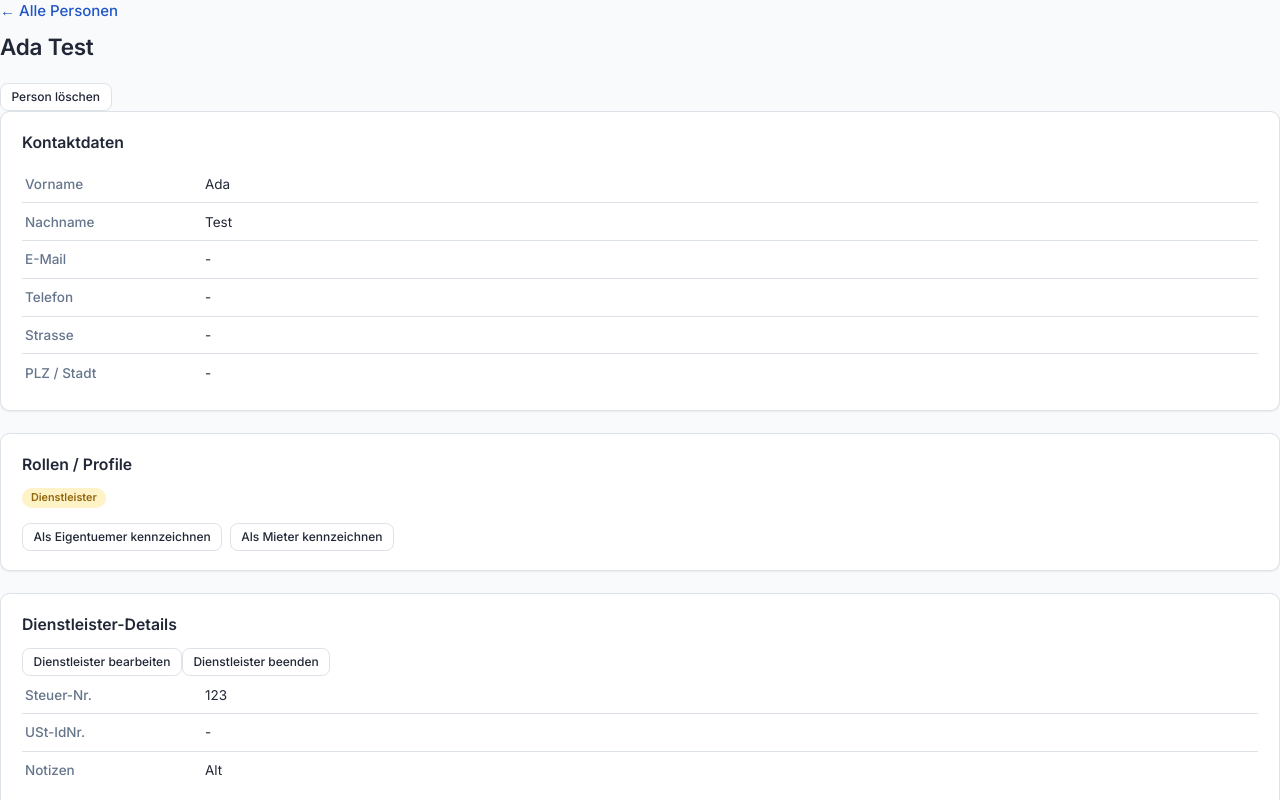
it: vendor edits the profile, not its linked person, and confirms ending
Click the button "Dienstleister bearbeiten": x=102, y=662 [22,648,182,676]
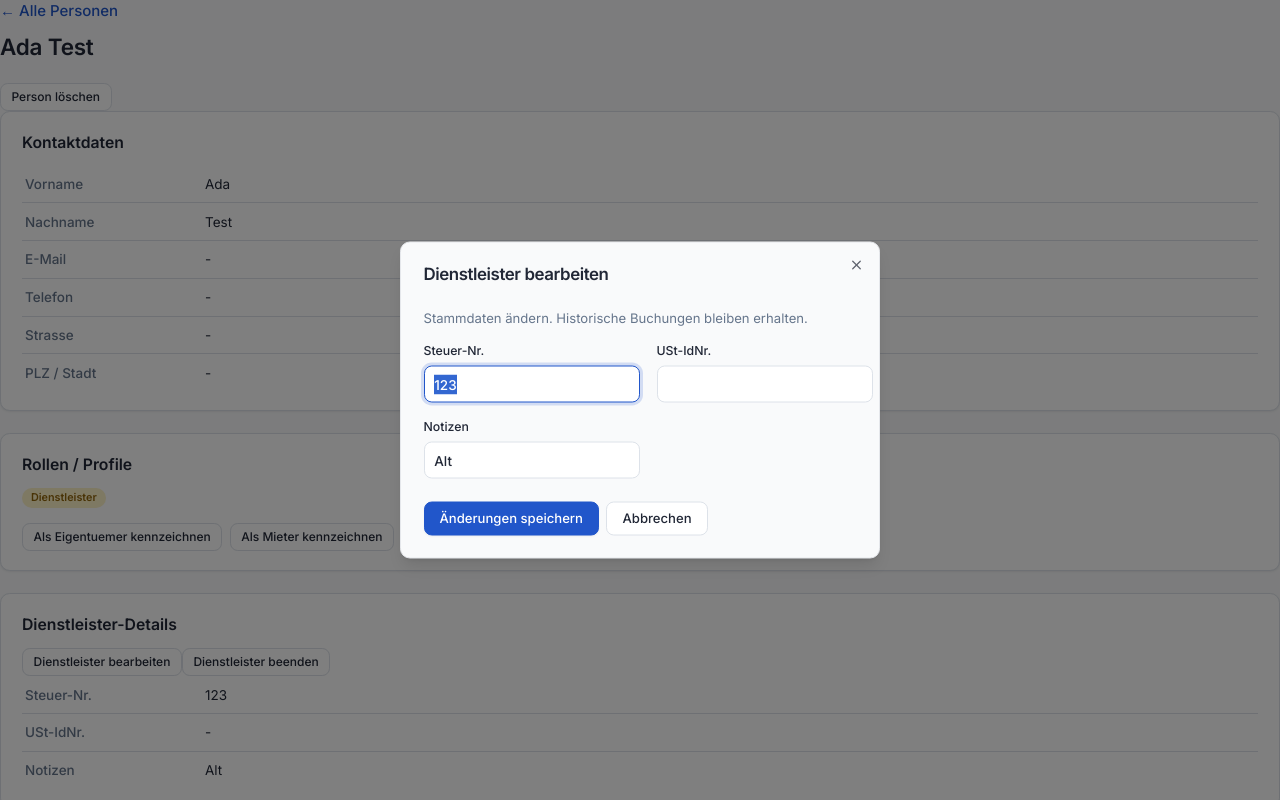
Replace the text in the field labelled "Steuer-Nr." with "456": x=532, y=384 [424,366,640,403]
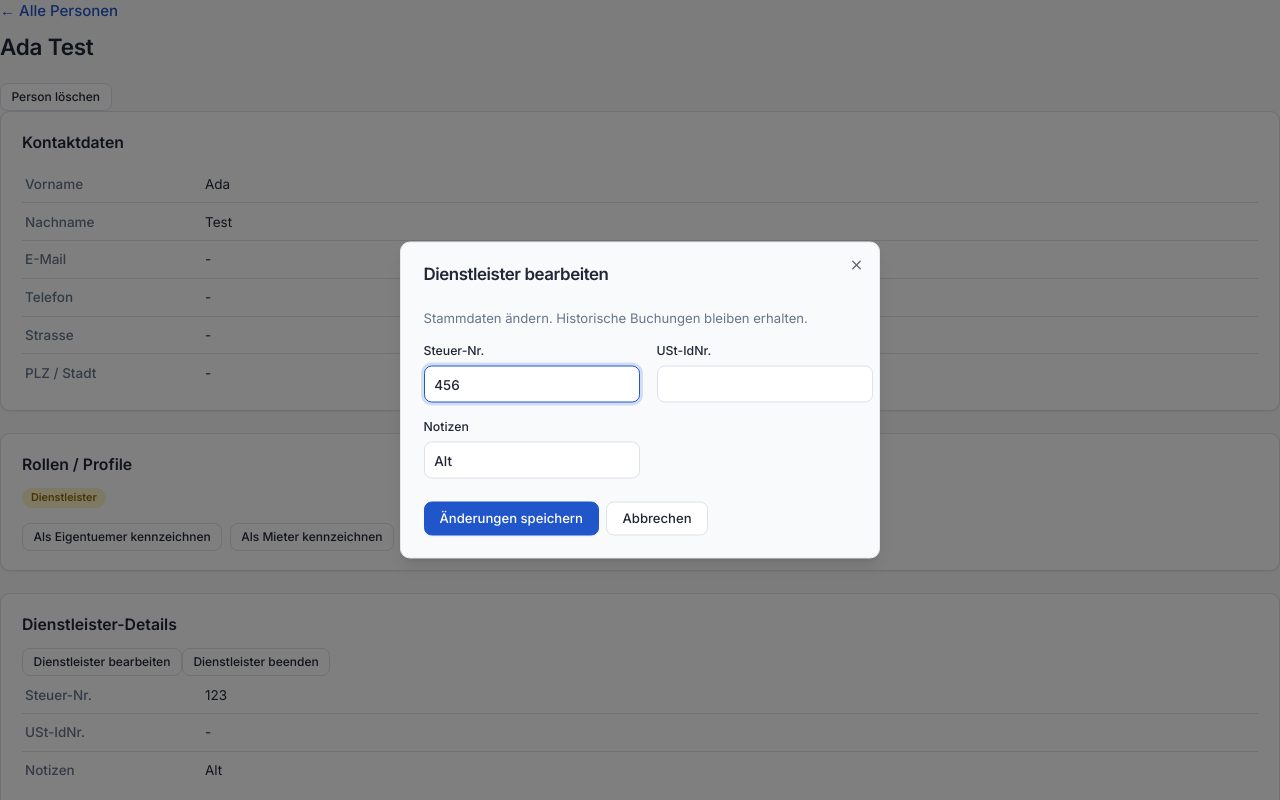
Replace the text in the field labelled "Notizen" with "Neu": x=532, y=460 [424,442,640,479]
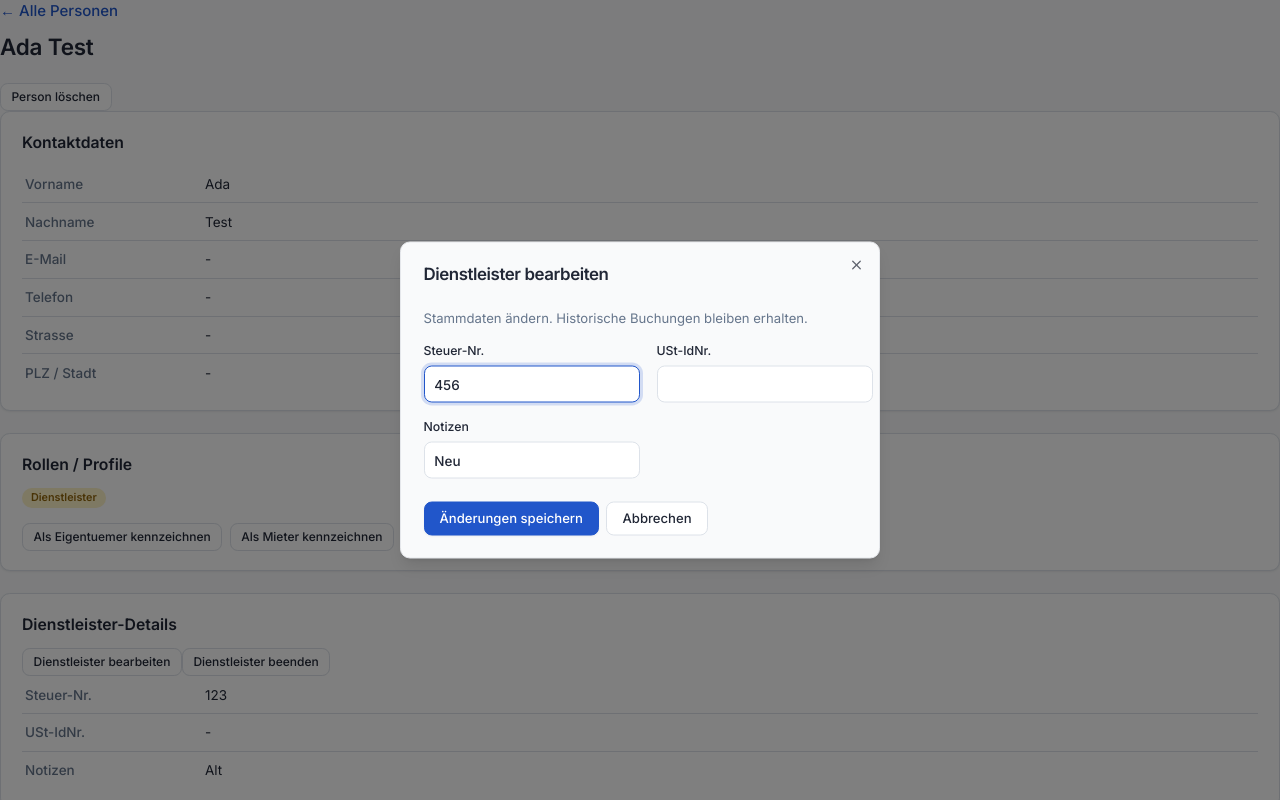
Click the button "Änderungen speichern": x=511, y=518 [424,501,599,535]
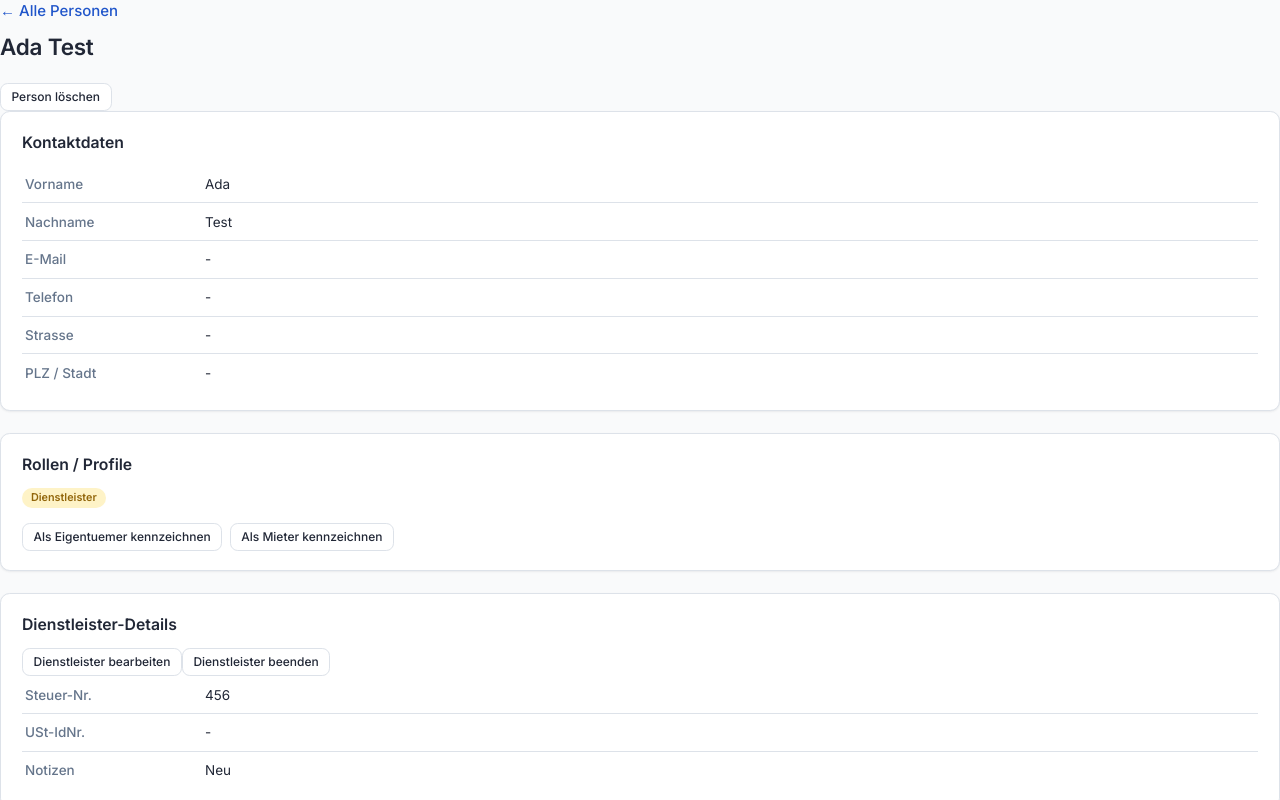
Now the text "456" is shown, box [202,676,1258,714]
Click the button "Dienstleister beenden": x=256, y=662 [182,648,330,676]
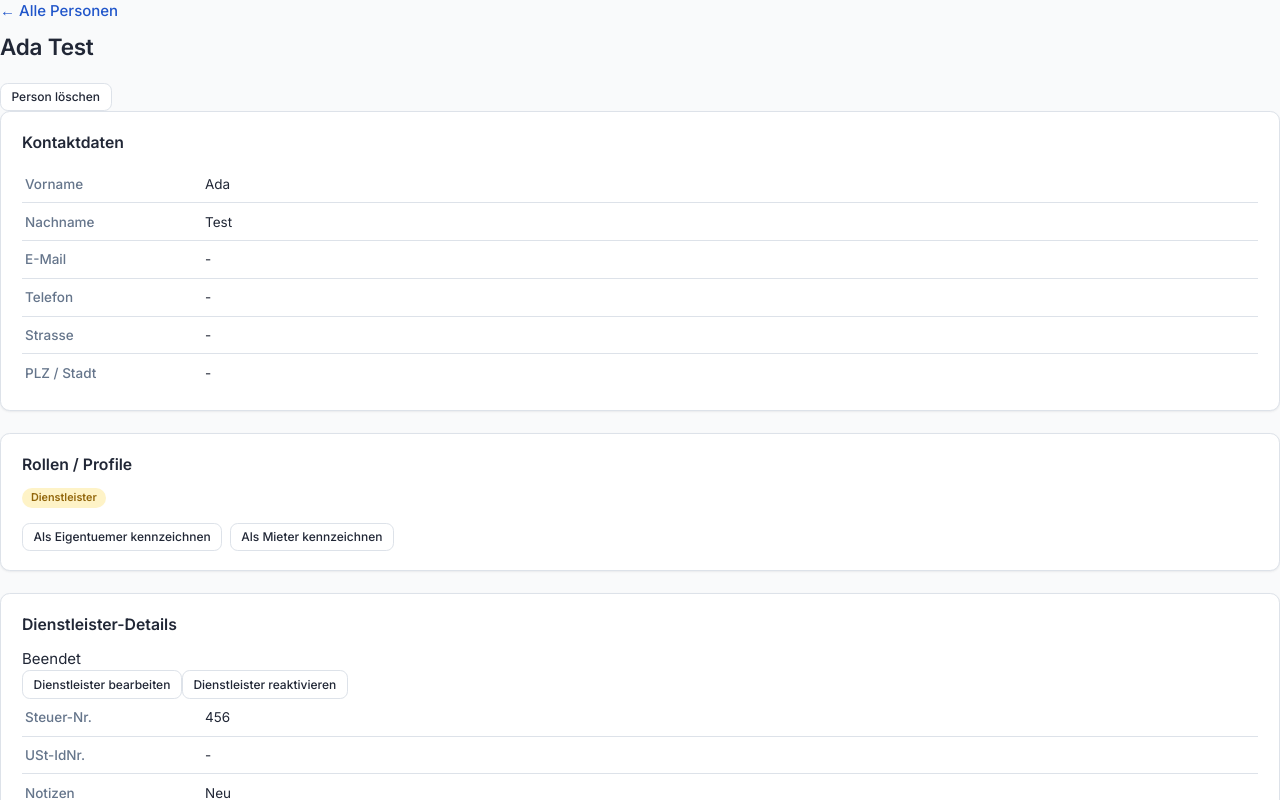
Now the text "Beendet" is shown, box [22,649,81,668]
